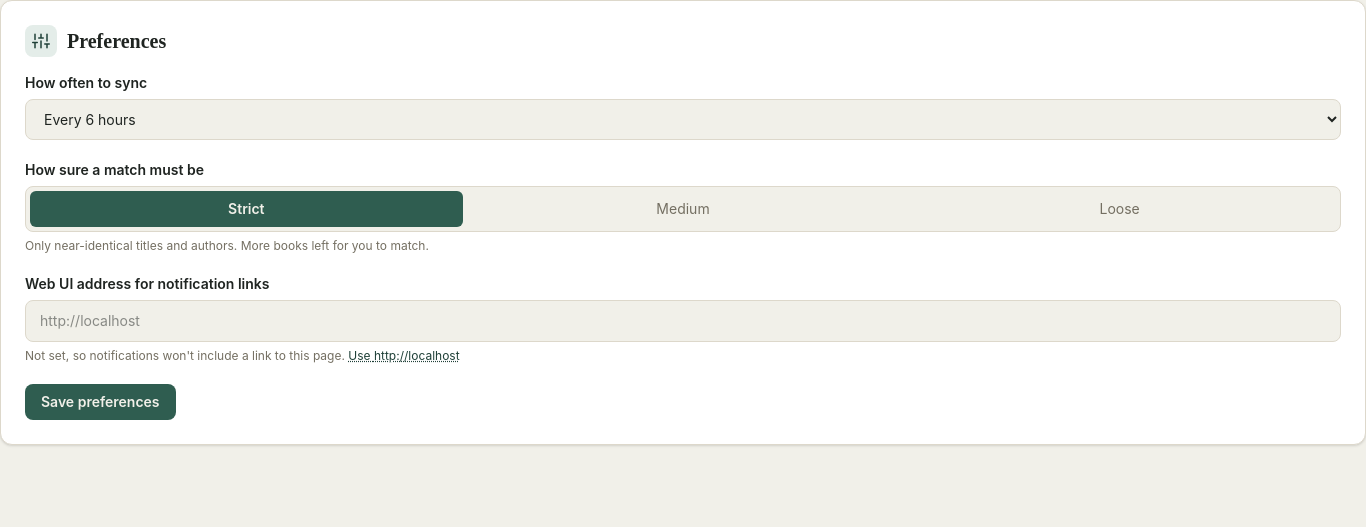
Scenario: PreferencesCard › shows a save error
Click the button "Save preferences" at (100,402), box [25,384,176,420]
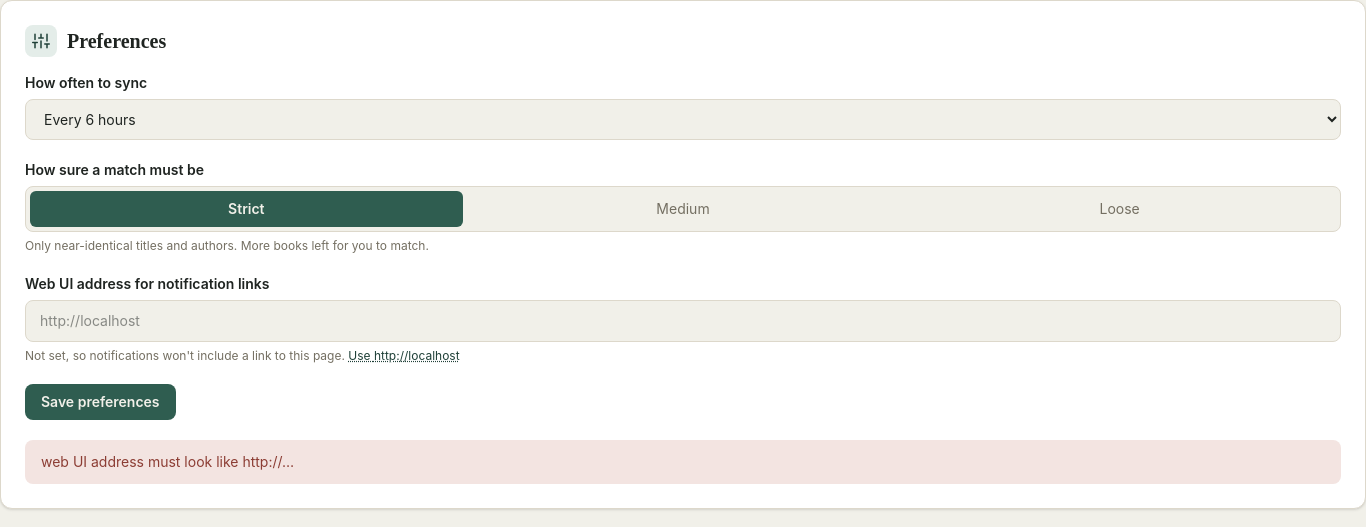
Check: the message shows "web UI address", box [41,453,294,470]
